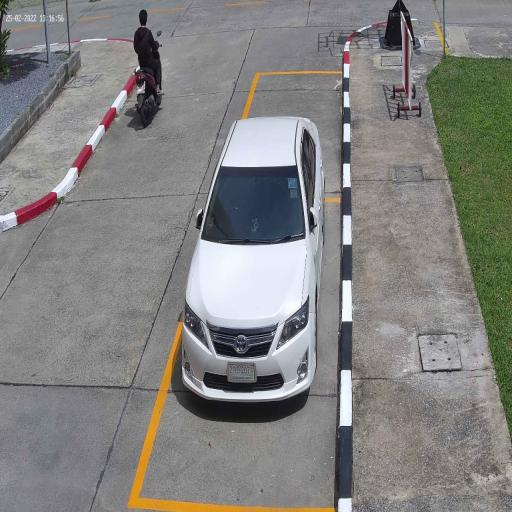car: (182, 116, 324, 404)
motorcycle: (135, 68, 157, 128)
